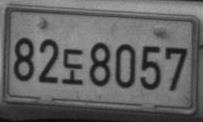0: (114, 43, 136, 88)
2: (38, 38, 59, 83)
5: (140, 45, 162, 90)
7: (165, 46, 188, 92)
8: (12, 36, 35, 81), (89, 41, 111, 86)
도: (62, 47, 84, 84)
